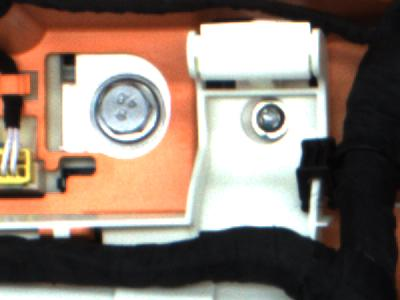screw_m: (241, 96, 290, 137)
